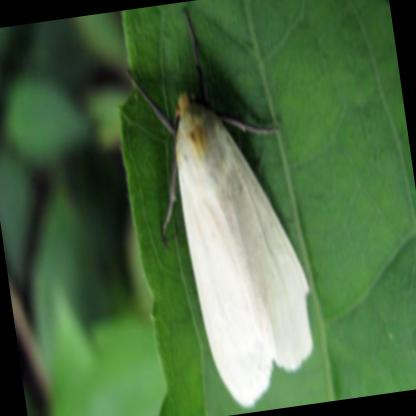whitefly: (175, 96, 312, 411)
